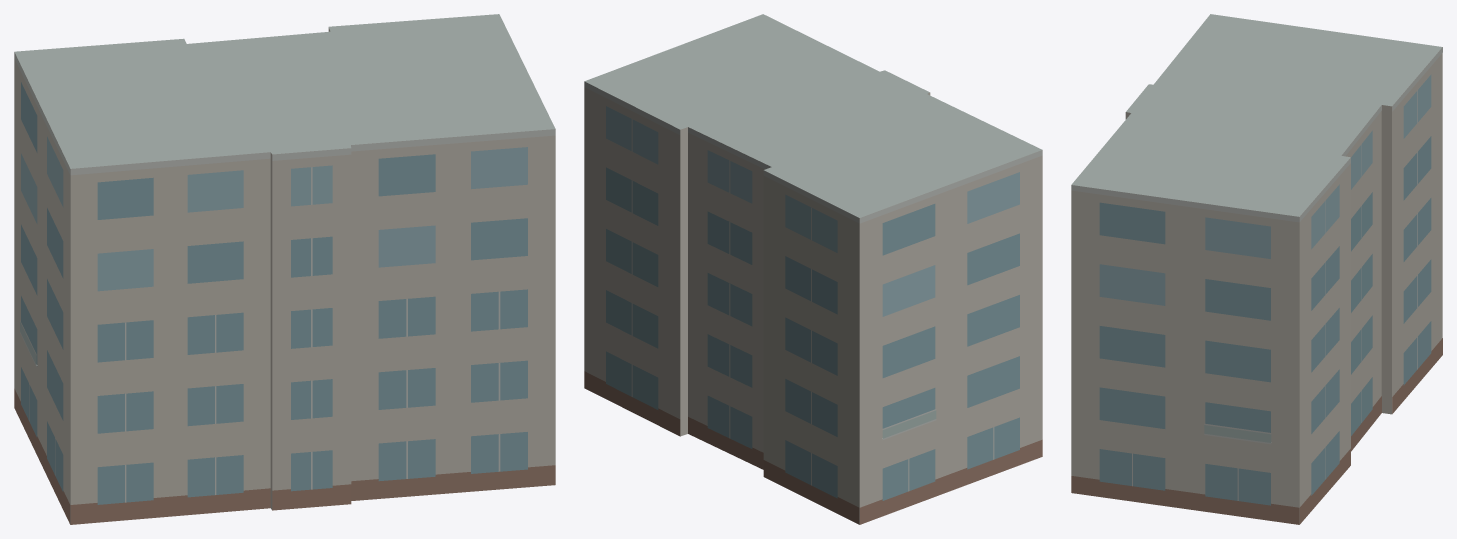
File: survey-upis-32740007.glb
3 views of the same model, side by side, from view 1: azimuth 30°, elevation 25°; view 2: azimuth 150°, elevation 25°; view 3: azimuth 270°, elevation 25° (orthographic). The views are drawn at different scales.
Parts seen in each view (by area): view 1: survey-upis-32740007.tmp; view 2: survey-upis-32740007.tmp; view 3: survey-upis-32740007.tmp.
Boxes of the visible parts, bbox=[...] form: survey-upis-32740007.tmp: bbox=[14, 14, 555, 524]; survey-upis-32740007.tmp: bbox=[584, 14, 1042, 524]; survey-upis-32740007.tmp: bbox=[1071, 14, 1442, 524].
Bounding box in the file's own units: 18.93 × 13.4 × 14.66.
